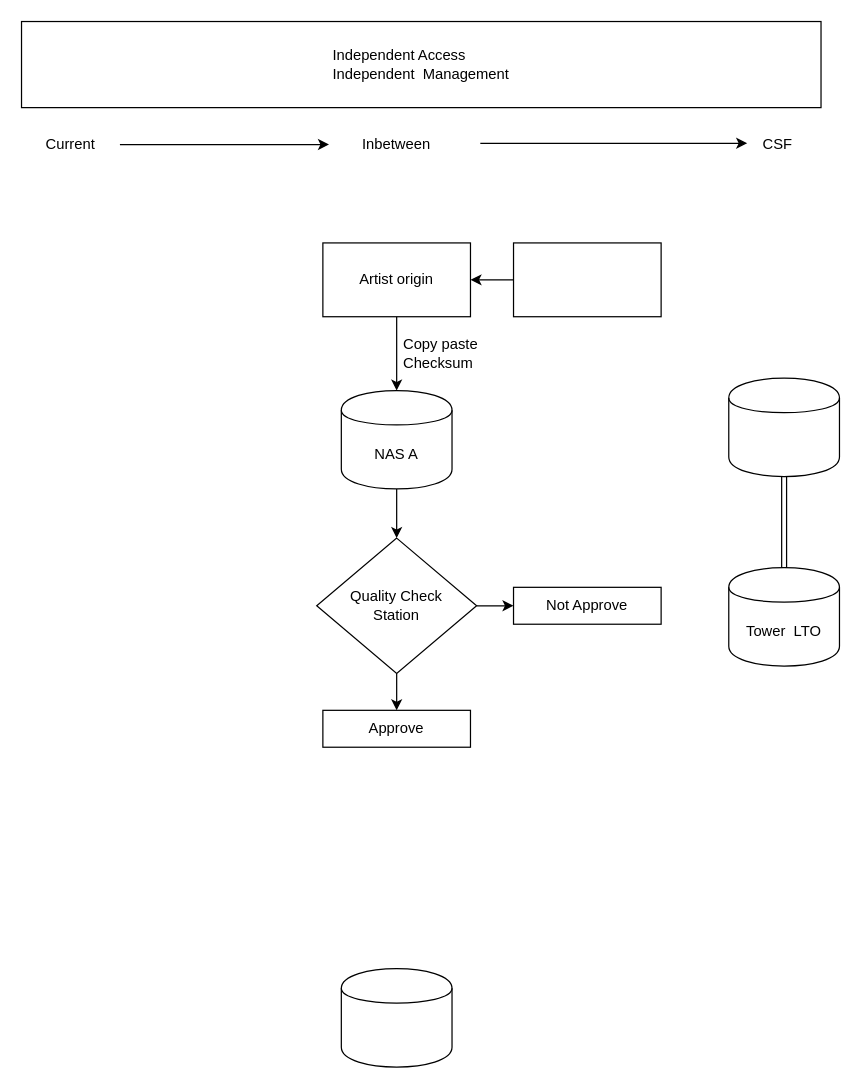
This 861x1089 diagram has some shape labels left out. The box of each missing label's shape, as (x1, y1, x2, y2) in pixels:
Artist: (512, 242, 661, 317)
NAS B: (340, 967, 452, 1067)
Tower HHD: (728, 377, 839, 477)
